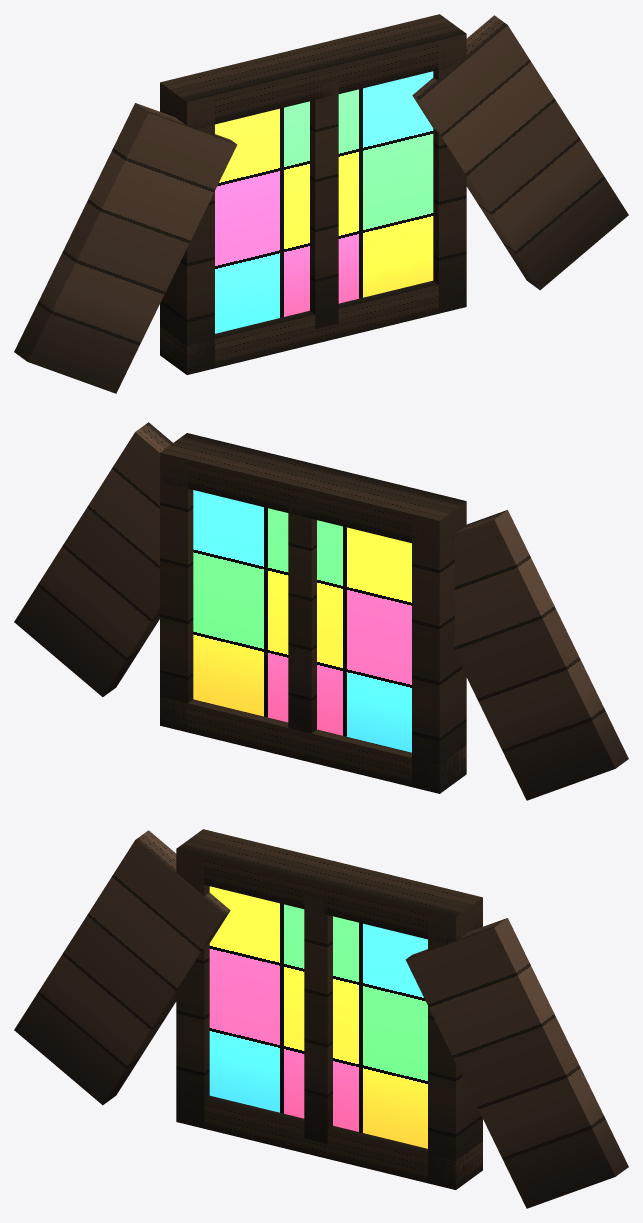
Rendered from window.gltf.
The picture shows the model from 3 angles, top to bottom: view 1: azimuth 30°, elevation 25°; view 2: azimuth 150°, elevation 25°; view 3: azimuth 330°, elevation 25°; orthographic projection.
Visible parts, largest first — view 1: window; view 2: window; view 3: window.
Boxes of the visible parts, <box> form: window: <box>14,14,628,393</box>; window: <box>14,422,628,800</box>; window: <box>14,829,628,1208</box>.
Size of the model in its own units: 1.29 by 0.5603 by 0.105.
1 material, 1 textured.
